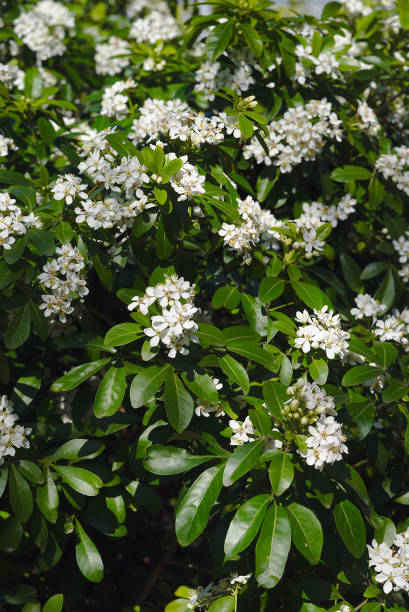flower: (306, 423, 341, 454), (375, 565, 408, 594), (144, 317, 173, 349), (293, 327, 322, 359), (31, 269, 68, 294), (225, 416, 255, 446), (49, 181, 83, 205), (58, 253, 87, 280), (300, 386, 331, 411), (103, 37, 134, 62), (118, 164, 148, 188), (302, 229, 328, 256), (320, 332, 346, 359), (36, 292, 63, 317), (362, 539, 390, 563), (274, 152, 299, 177), (374, 318, 399, 342), (128, 294, 155, 315), (337, 192, 361, 215), (0, 215, 23, 239), (193, 72, 218, 94), (184, 169, 206, 193), (301, 201, 326, 222), (138, 102, 163, 123), (0, 192, 21, 217), (215, 221, 238, 243), (231, 74, 253, 96), (85, 153, 106, 176), (19, 32, 47, 49), (129, 127, 152, 147), (351, 302, 375, 321), (113, 89, 129, 117), (0, 407, 20, 429), (287, 125, 305, 147), (266, 118, 289, 135), (312, 53, 329, 76), (292, 308, 312, 324), (311, 306, 330, 320)
